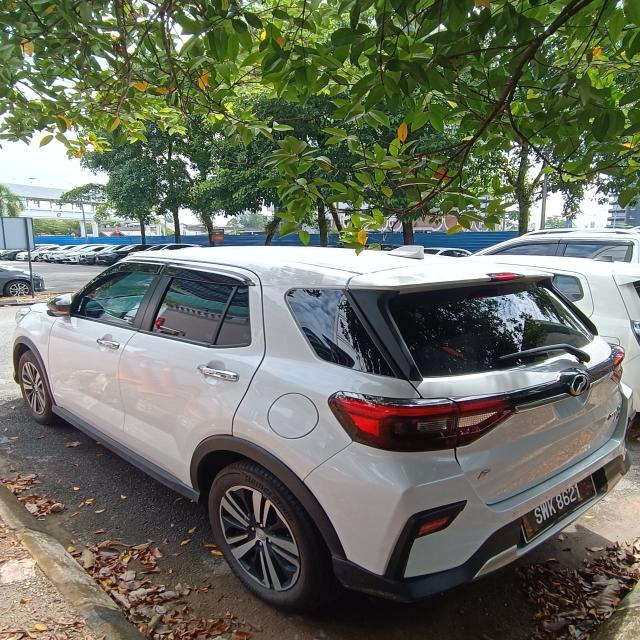PeroduaAtiva: (11, 243, 634, 612)
